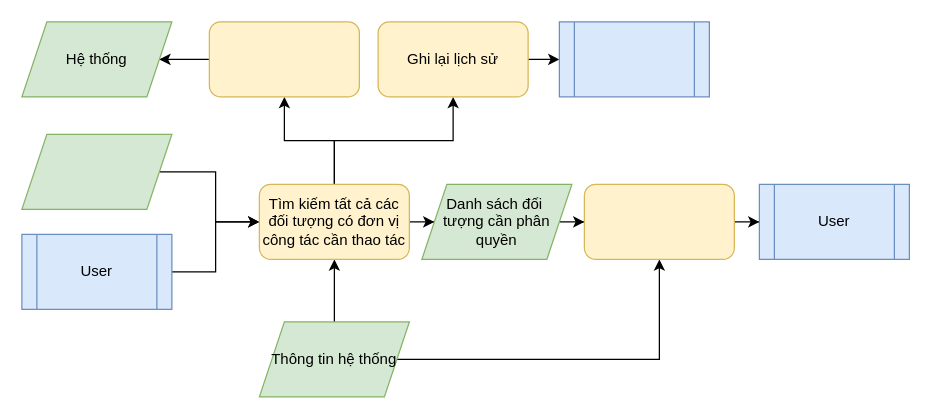
Image size: 931x419. Some labels were removed from this diagram. Each missing label, with the centre of its shape:
"Biến done con trỏ lưu trữ id" goes at pixel 96 171.
"Cập nhật quyền của user" goes at pixel 658 221.
"Lịch sử" goes at pixel 633 59.
"Xử lý nếu có lỗi" goes at pixel 283 59.
